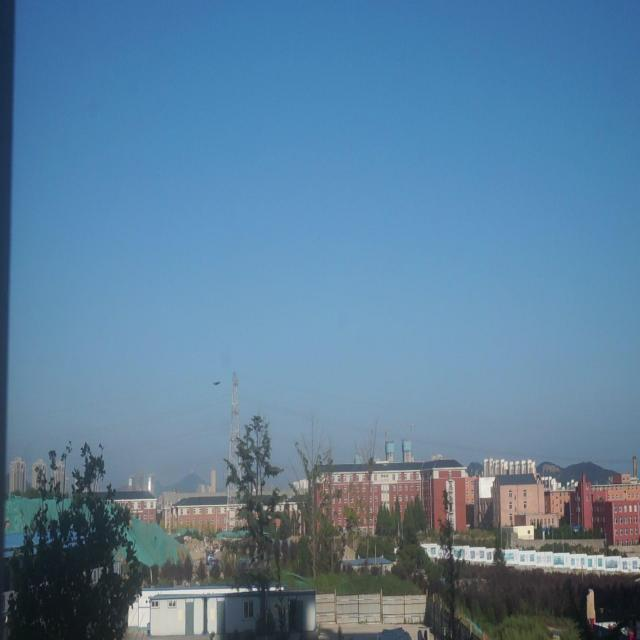UAV: (213, 382, 221, 386)
